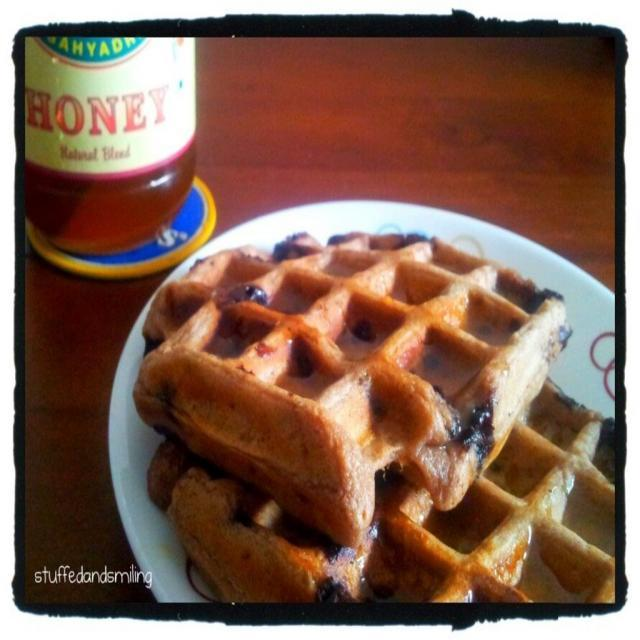Waffle: (130, 226, 569, 551), (169, 376, 616, 604)
